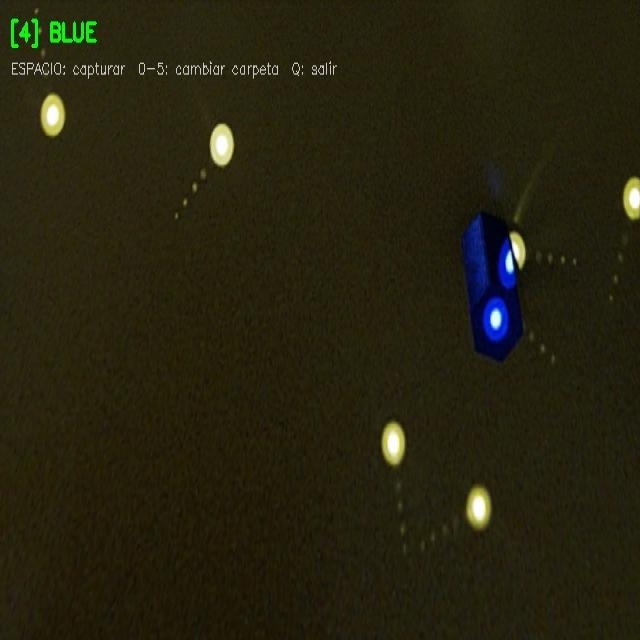blue: (41, 93, 65, 136)
